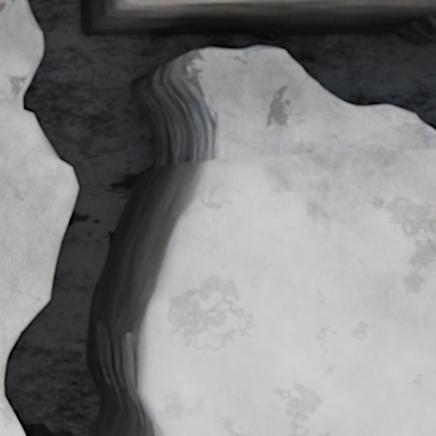broken_brick: (148, 148, 435, 435), (0, 103, 71, 435)
crack: (1, 0, 435, 435)
